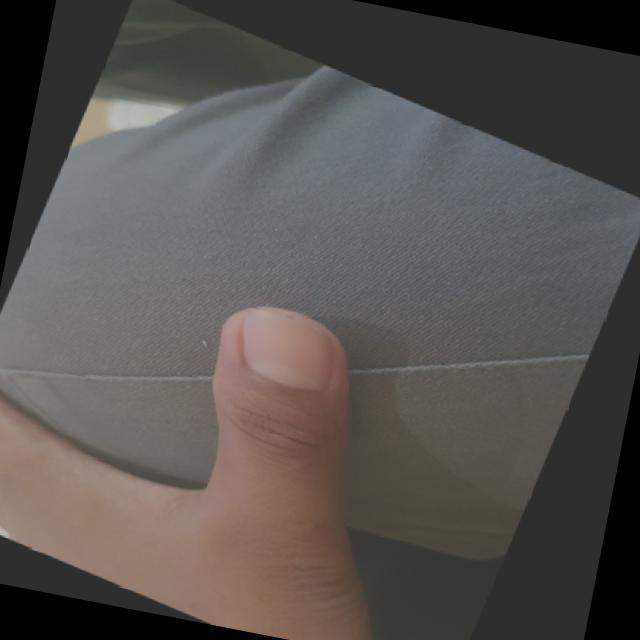Nail: (243, 311, 333, 390)
